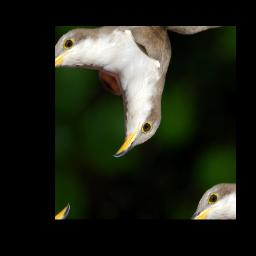Cuckoo: (78, 27, 210, 168)
